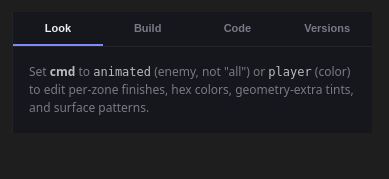
Test case: StudioVersionsPanel › shows empty state when cmd is not animated or player
Click the tab with test id "studio-inspector-tab-versions" at (327, 29), box [282,12,372,46]
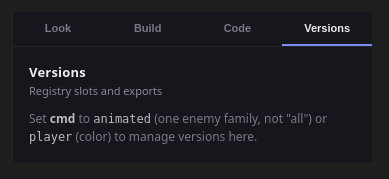
Expected: the element with test id "studio-versions-empty" is shown, [29,63,356,146]
